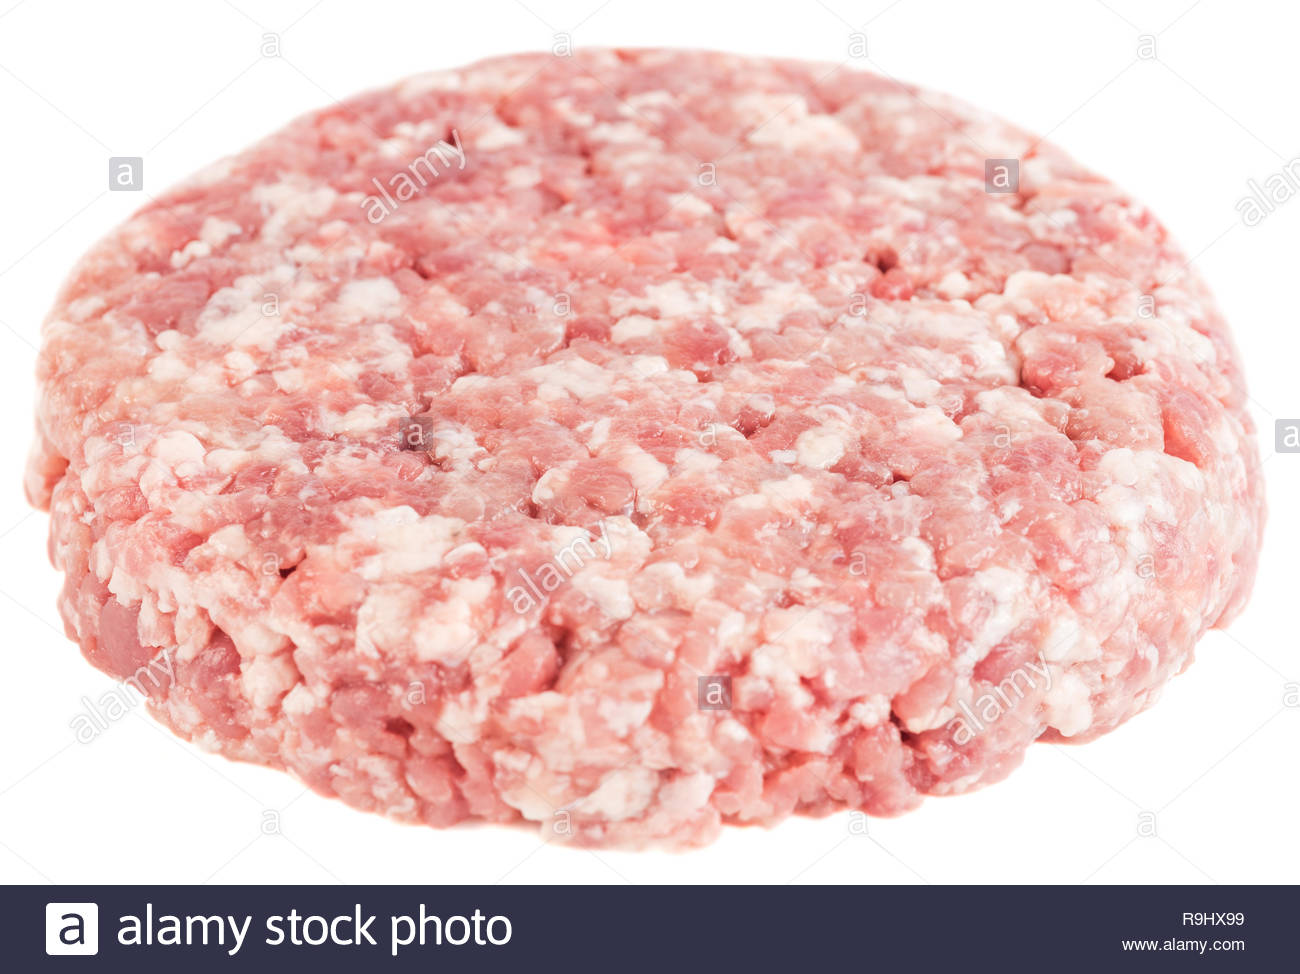ground_beef: (80, 37, 1222, 780)
